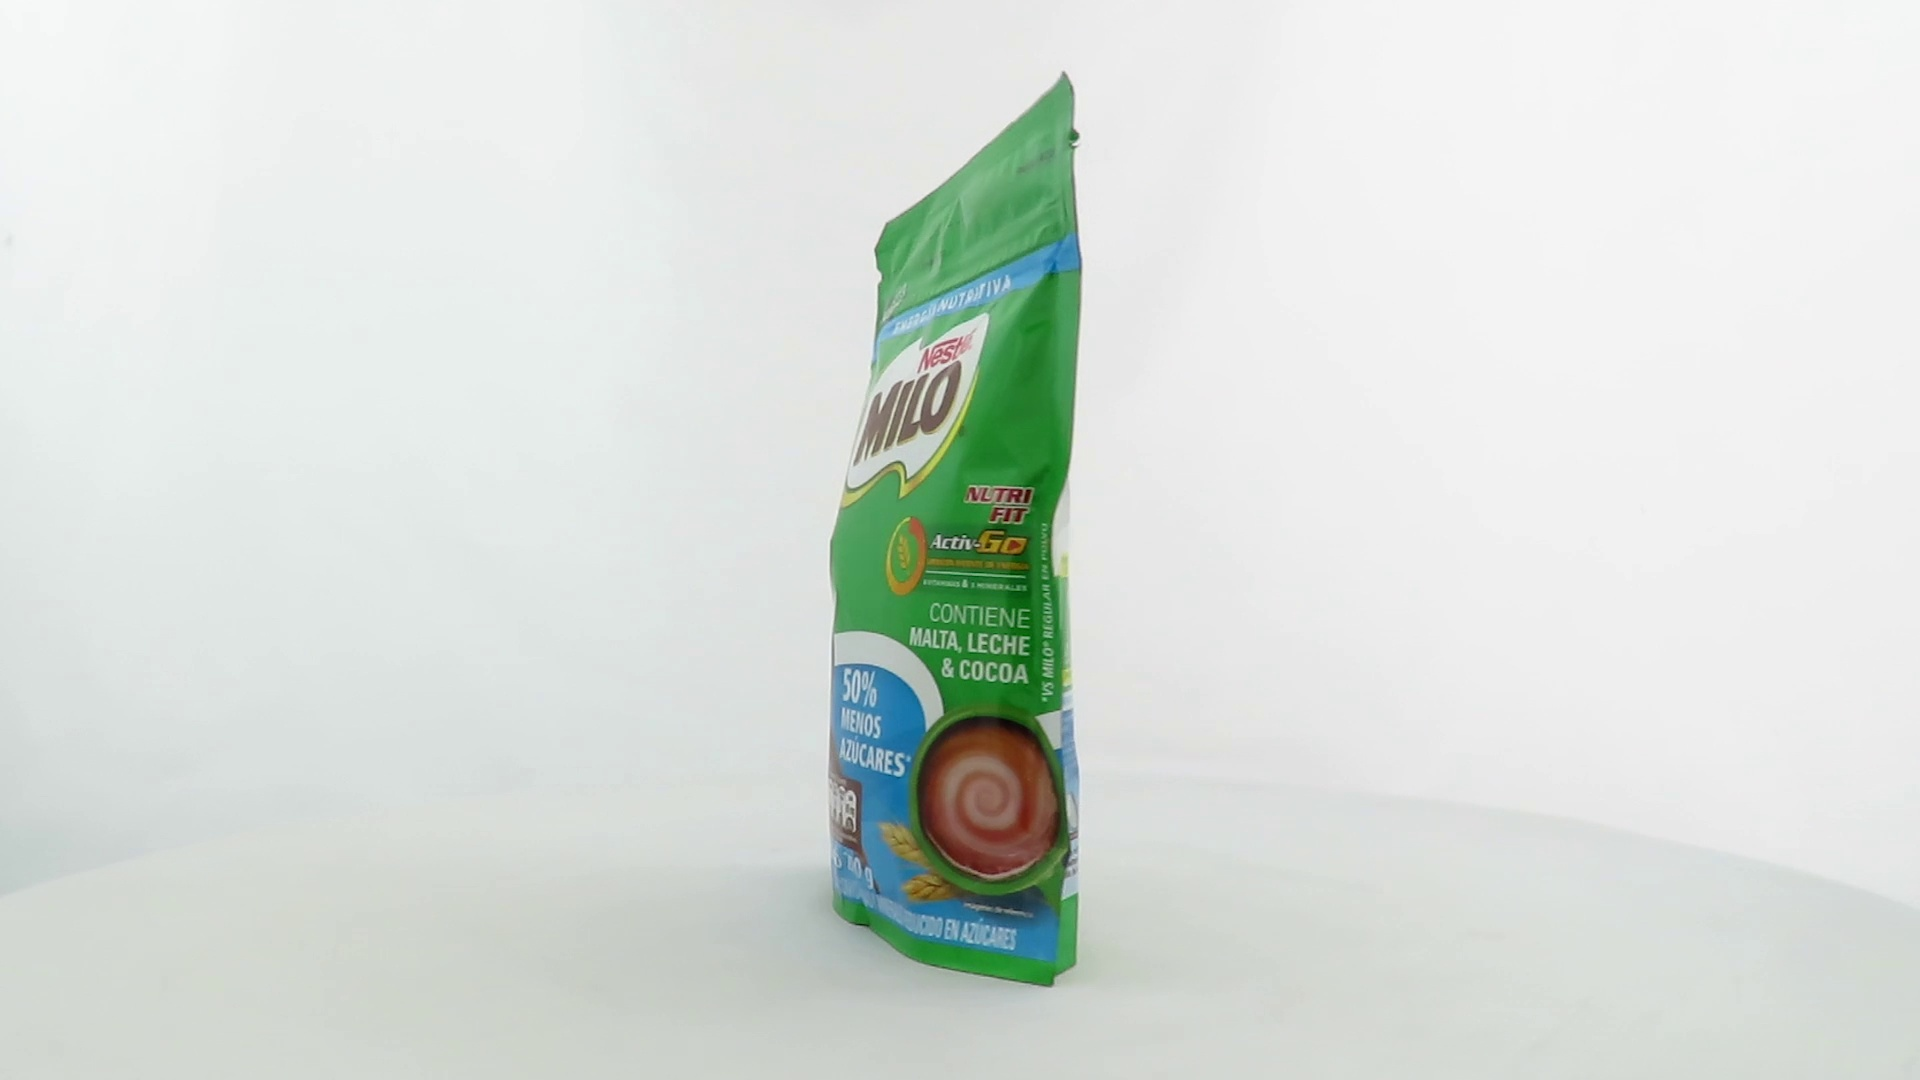COL0170205DYP20000: (823, 66, 1088, 994)
